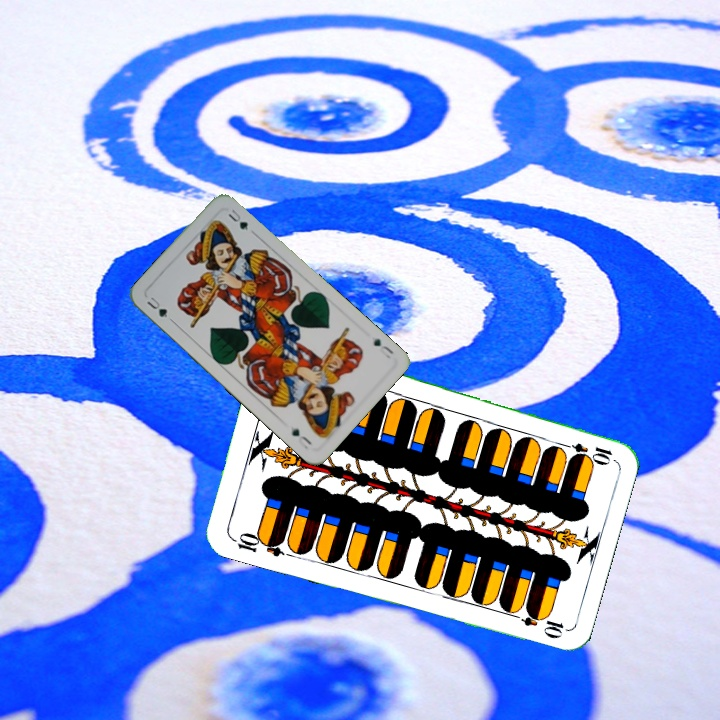E10: (227, 528, 287, 560), (556, 438, 615, 463)
GU: (143, 292, 170, 320), (369, 334, 396, 361)
